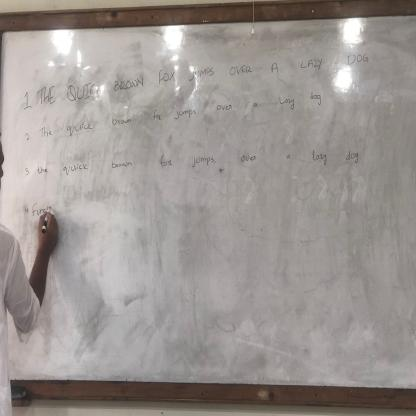Handwritten text: (31, 33, 387, 114), (33, 134, 373, 189), (33, 82, 333, 143)
Whiteboard: (0, 14, 416, 391)
